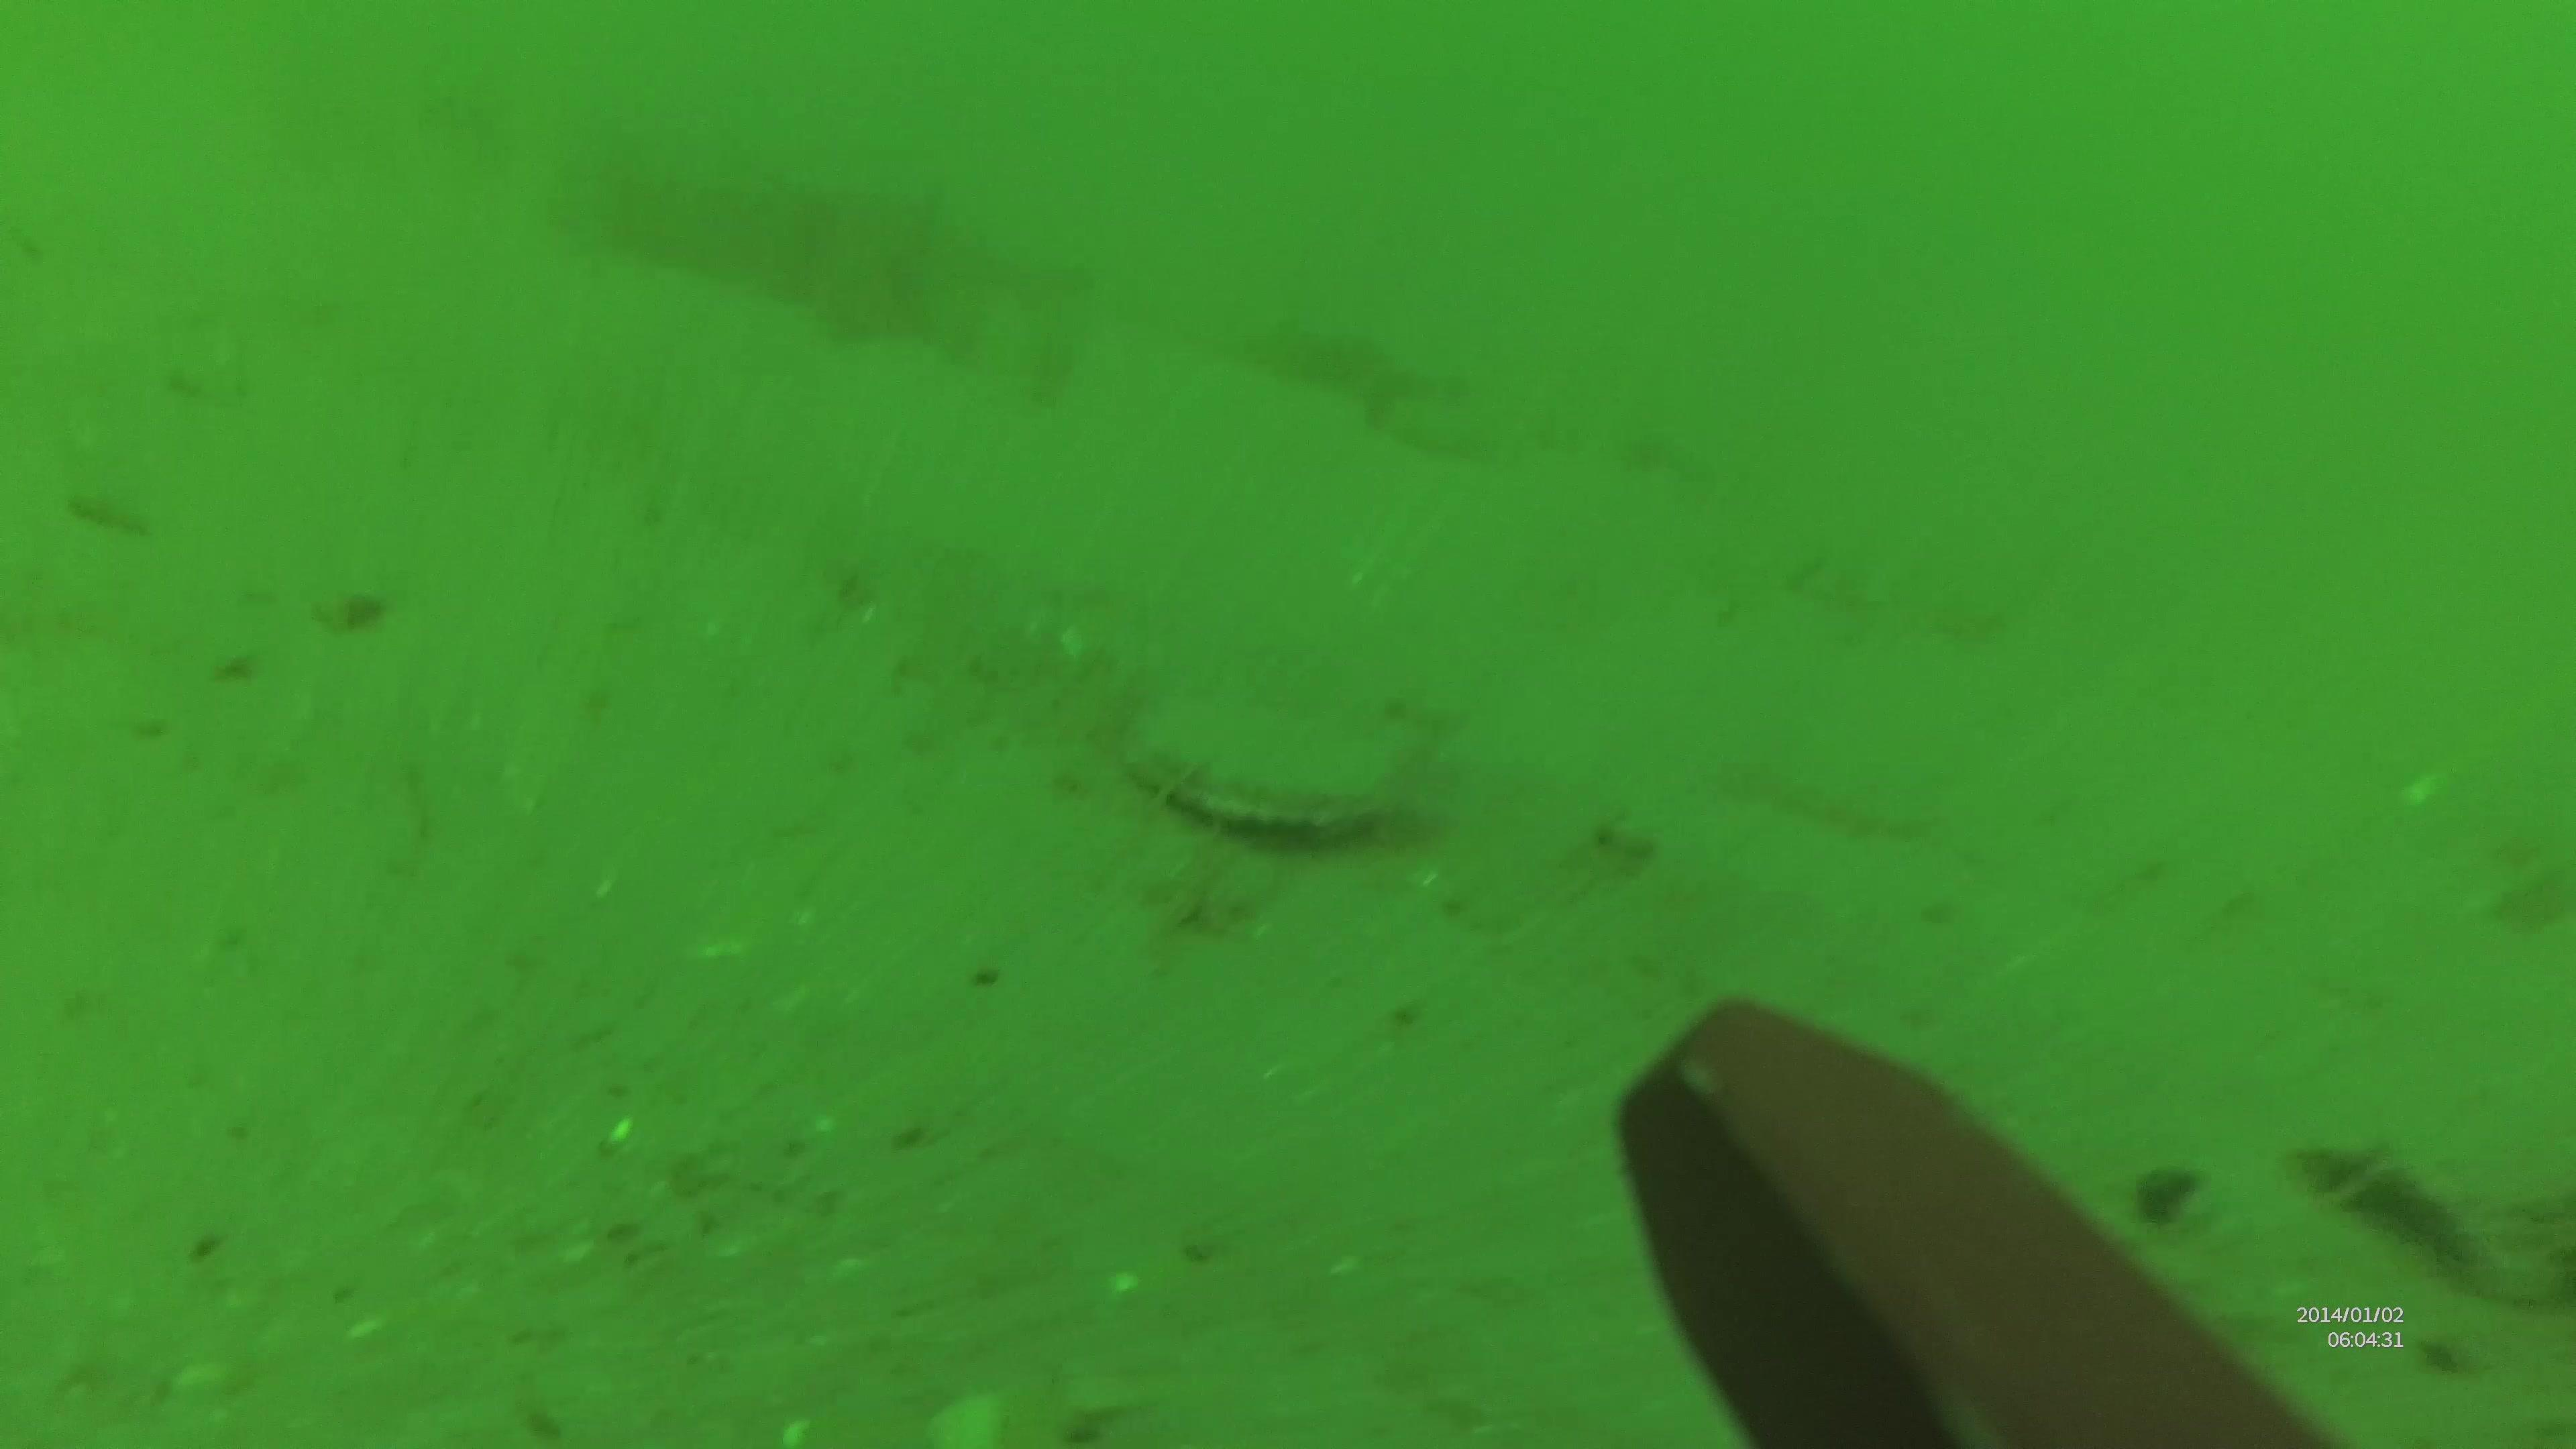scallop: (1118, 704, 1399, 840)
